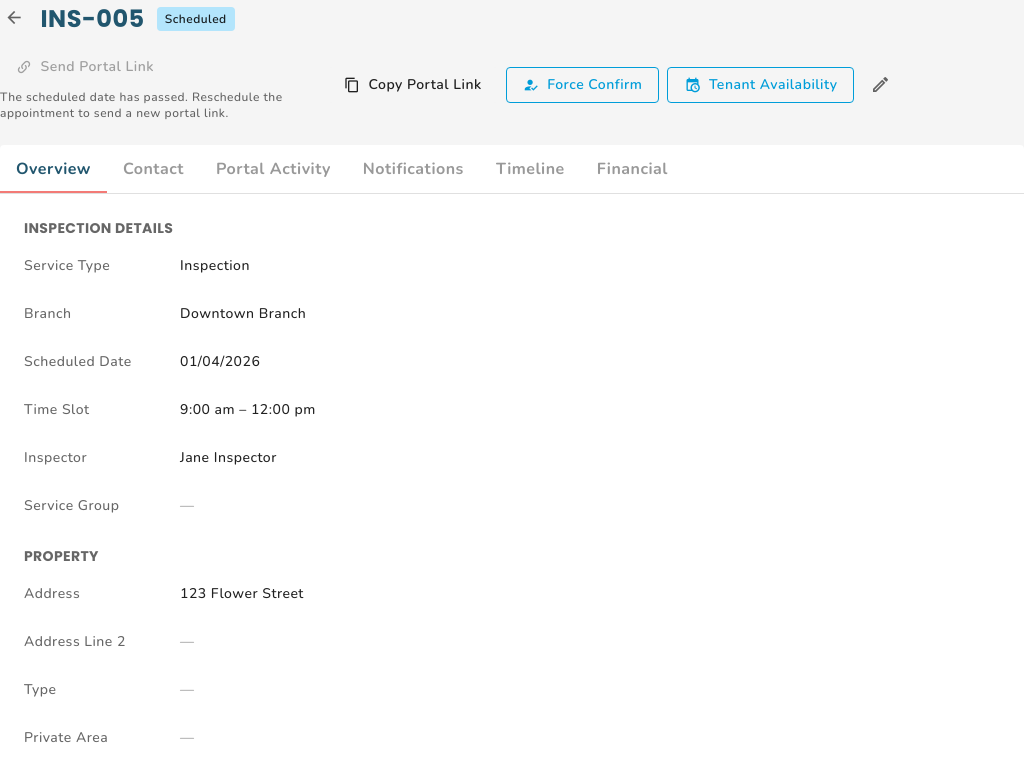
Test: Tenant Availability action › opens the dialog with the decline checkbox for an operator
Click the button with test id "set-tenant-availability-button" at (761, 85), box [667,67,854,103]
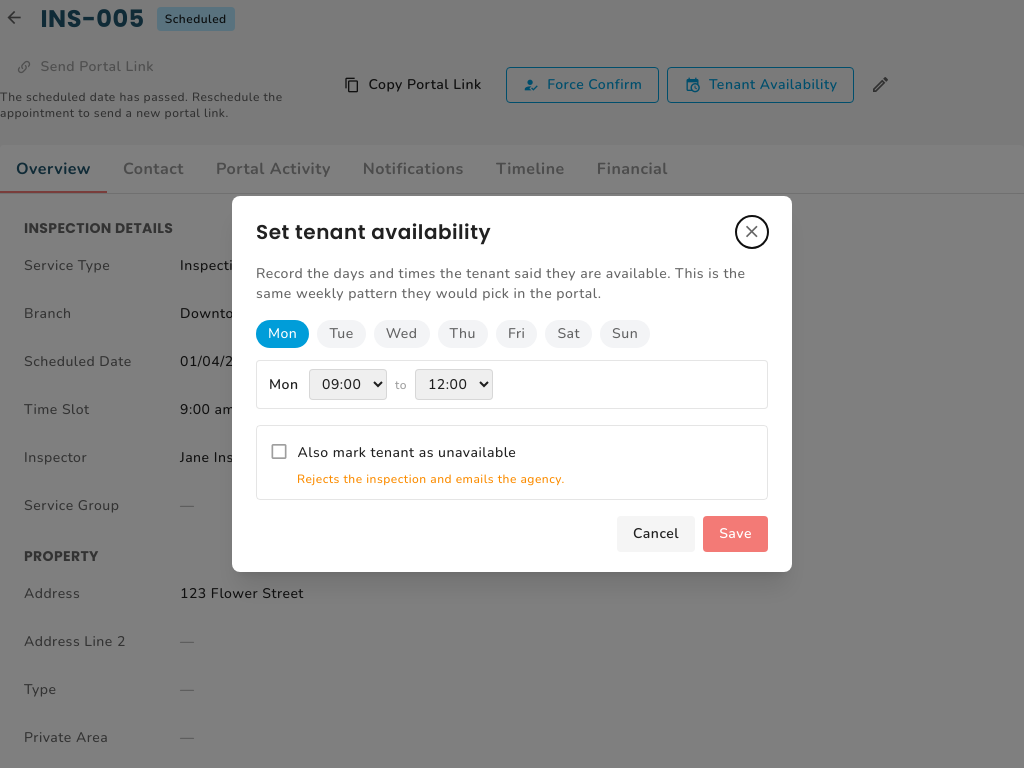
Expected: the checkbox labelled "Also mark tenant as unavailable" is shown, [269,438,516,467]
